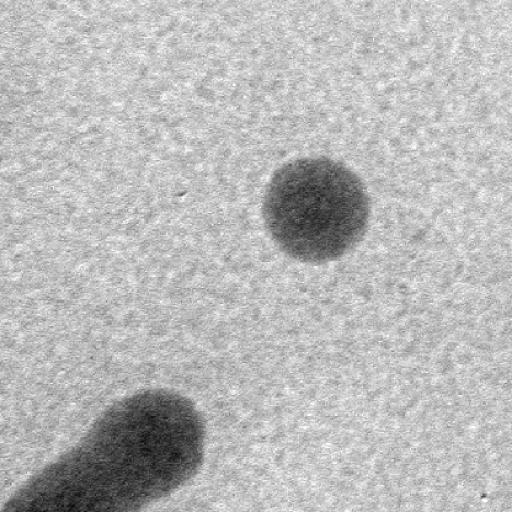Nanoparticles: (100, 379, 216, 497), (260, 154, 373, 264), (0, 443, 147, 512)
